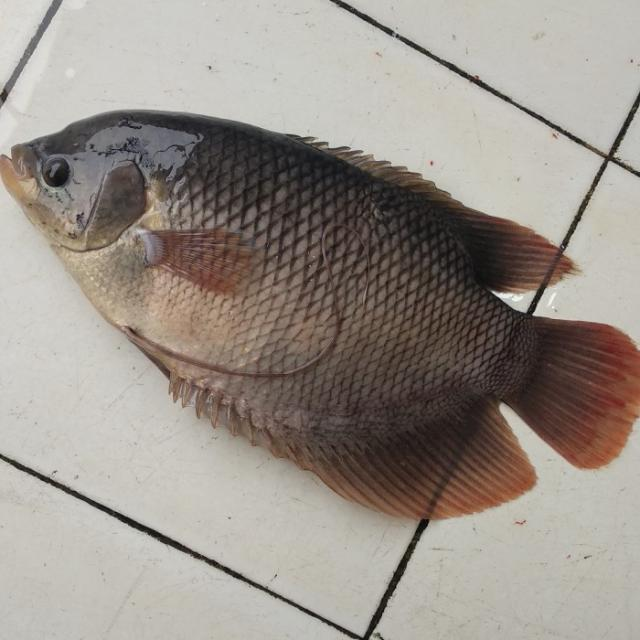Mulut: (0, 115, 60, 227)
Sirip Anal: (158, 356, 552, 528)
Sirip Dada: (130, 208, 276, 320)
Sirip Ekor: (510, 300, 640, 476)
Sirip Punggung: (286, 113, 594, 311)
